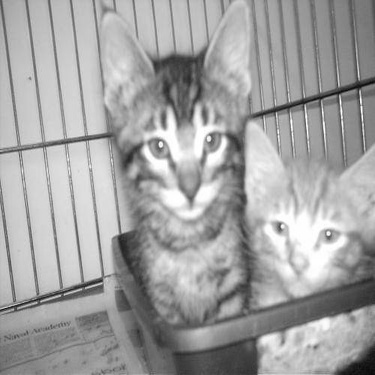cat: (77, 5, 246, 359), (243, 115, 369, 370)
